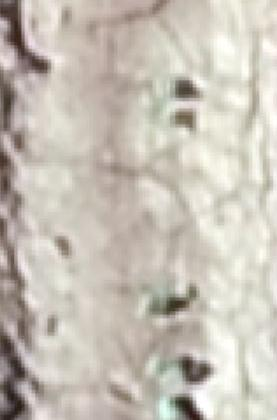cotton: (155, 79, 175, 100), (162, 359, 183, 377), (155, 108, 171, 126), (164, 395, 177, 417), (152, 292, 165, 313)
